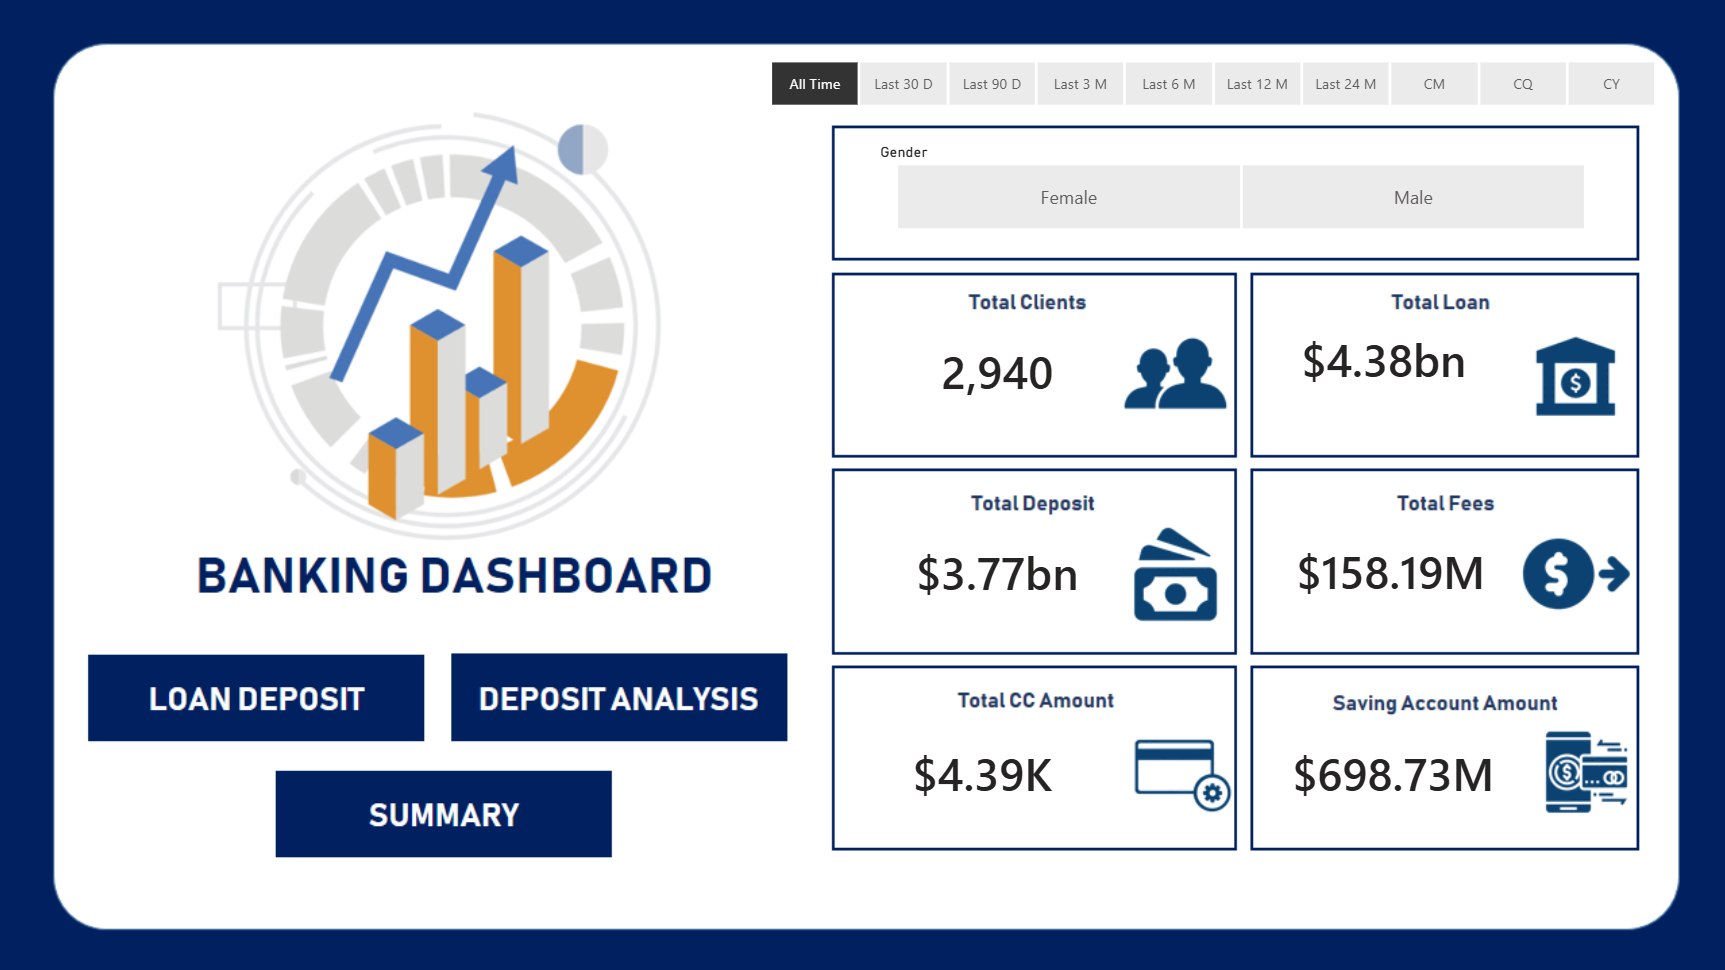

The dashboard page shown, as its layout file describes it:
{"tool":"powerbi","page":{"name":"Home","canvas":[1280,720],"ordinal":0},"visuals":[{"type":"slicer","fields":{"Values":["Gender.Gender"]},"box":[640.3,100.8,558.2,75],"z":0},{"type":"card","fields":{"Values":["DAX Measures.Total Clients"]},"box":[640.3,218.1,198.2,114.9],"z":1000},{"type":"card","fields":{"Values":["DAX Measures.Total Loan"]},"box":[933.4,208.7,184.1,114.9],"z":2000},{"type":"card","fields":{"Values":["DAX Measures.Total Deposit"]},"box":[640.3,374.1,198.2,98.5],"z":3000},{"type":"card","fields":{"Values":["DAX Measures.Total CC Amount"]},"box":[628.5,533.6,198.2,79.7],"z":4000},{"type":"card","fields":{"Values":["DAX Measures.Total Fees"]},"box":[938.1,372.9,185.3,99.7],"z":5000},{"type":"card","fields":{"Values":["DAX Measures.Savings Account"]},"box":[933.4,533.6,198.2,79.7],"z":6000},{"type":"actionButton","box":[63.3,483.1,253.3,65.7],"z":7000},{"type":"actionButton","box":[335.4,485.5,250.9,63.3],"z":8000},{"type":"actionButton","box":[205.2,573.4,255.6,61],"z":9000},{"type":"slicer","fields":{"Values":["Period.Name"]},"box":[546.4,38.7,703.6,45.7],"z":10000}]}

Visuals, with their boxes in screenshot pixels (x1, y1, x2, y2), scaled from the page's 1280x720 canvas onto the 1725x970 screenshot:
slicer - Gender.Gender: Rect(863, 136, 1615, 237)
card - DAX Measures.Total Clients: Rect(863, 294, 1130, 449)
card - DAX Measures.Total Loan: Rect(1258, 281, 1506, 436)
card - DAX Measures.Total Deposit: Rect(863, 504, 1130, 637)
card - DAX Measures.Total CC Amount: Rect(847, 719, 1114, 826)
card - DAX Measures.Total Fees: Rect(1264, 502, 1514, 637)
card - DAX Measures.Savings Account: Rect(1258, 719, 1525, 826)
actionButton: Rect(85, 651, 427, 739)
actionButton: Rect(452, 654, 790, 739)
actionButton: Rect(277, 772, 621, 855)
slicer - Period.Name: Rect(736, 52, 1685, 114)
